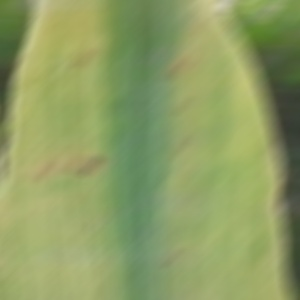Bacterial_Leaf_Blight: (155, 249, 190, 268), (74, 49, 102, 66), (78, 157, 103, 175), (167, 62, 191, 78), (36, 165, 52, 179), (176, 100, 194, 112), (65, 157, 81, 170), (79, 139, 96, 151), (152, 174, 168, 185), (185, 128, 198, 141), (232, 210, 248, 220), (176, 198, 193, 205), (5, 204, 18, 213), (53, 151, 67, 159), (25, 211, 37, 220), (67, 197, 78, 204), (89, 233, 99, 240), (195, 24, 204, 31), (87, 214, 97, 220), (172, 149, 182, 154)
